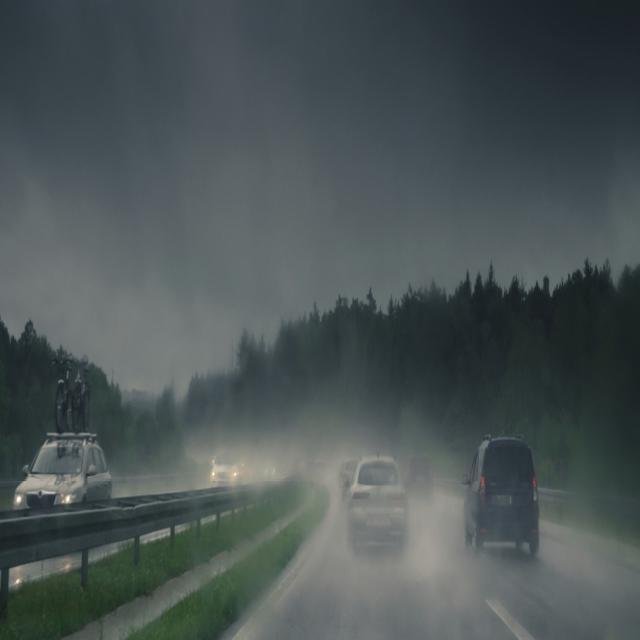car: (462, 432, 540, 560), (14, 428, 112, 498), (346, 454, 406, 558), (404, 448, 434, 502), (206, 444, 244, 482)
